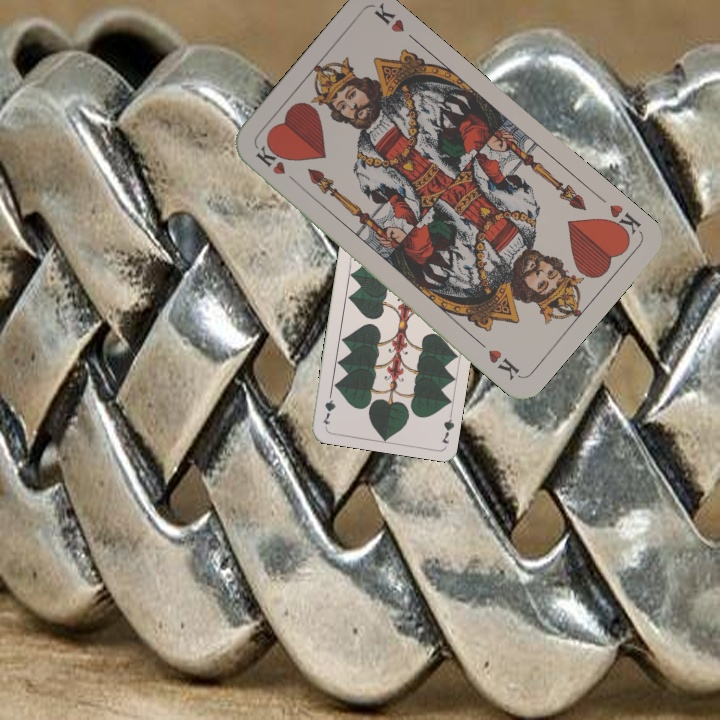G7: (437, 406, 457, 446)
HK: (252, 141, 302, 188), (600, 200, 644, 243)
